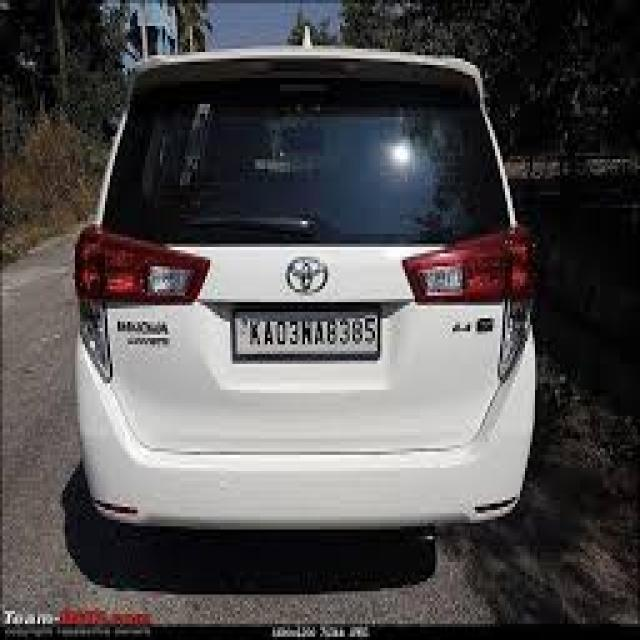Number-Plate: (234, 308, 378, 356)
